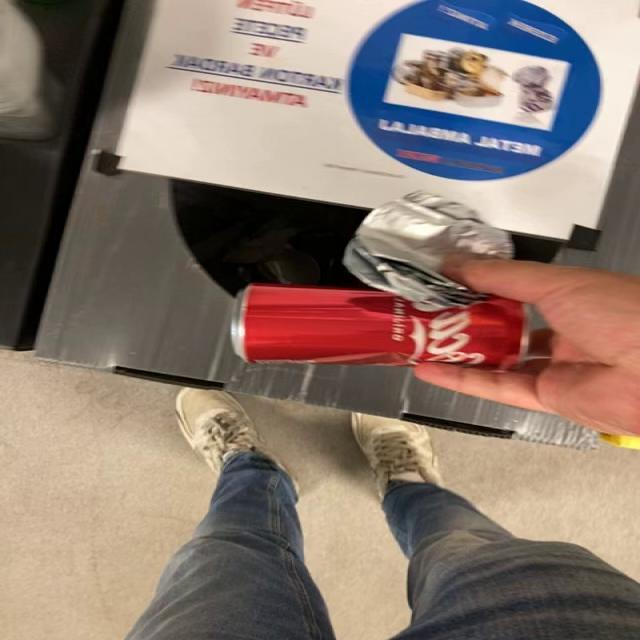Bin: (35, 0, 639, 448)
Metal: (233, 285, 533, 370)
